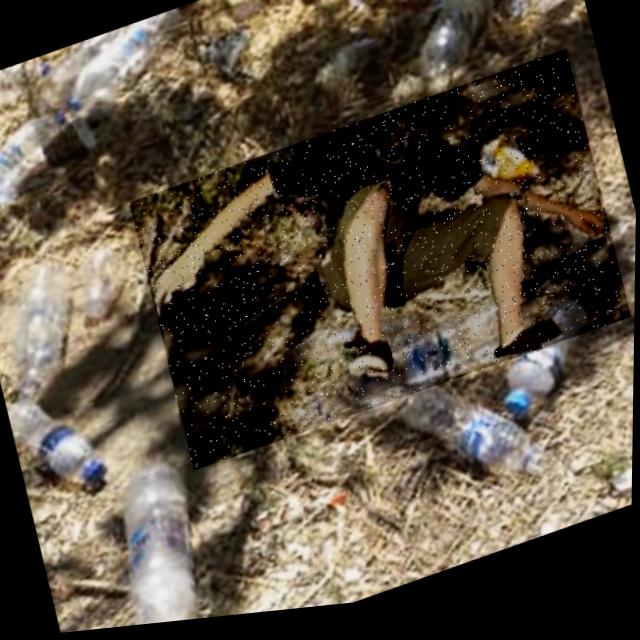Person in Rubble: (127, 55, 635, 480)
